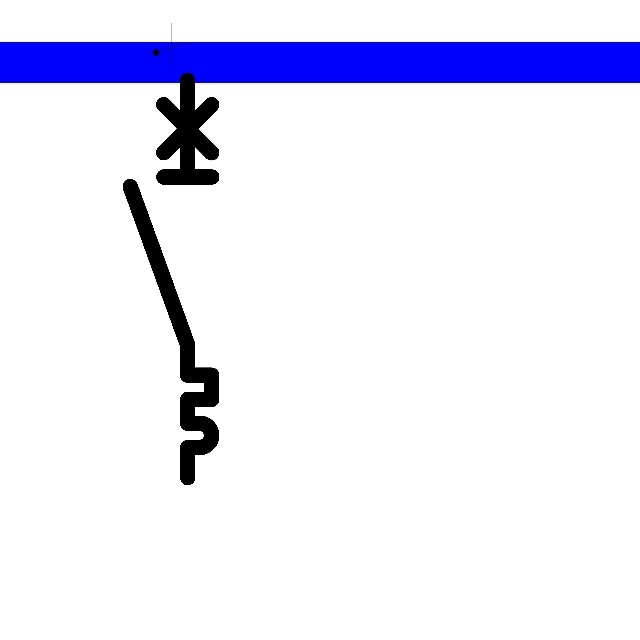interruptor_termomagnetico: (120, 70, 222, 488)
